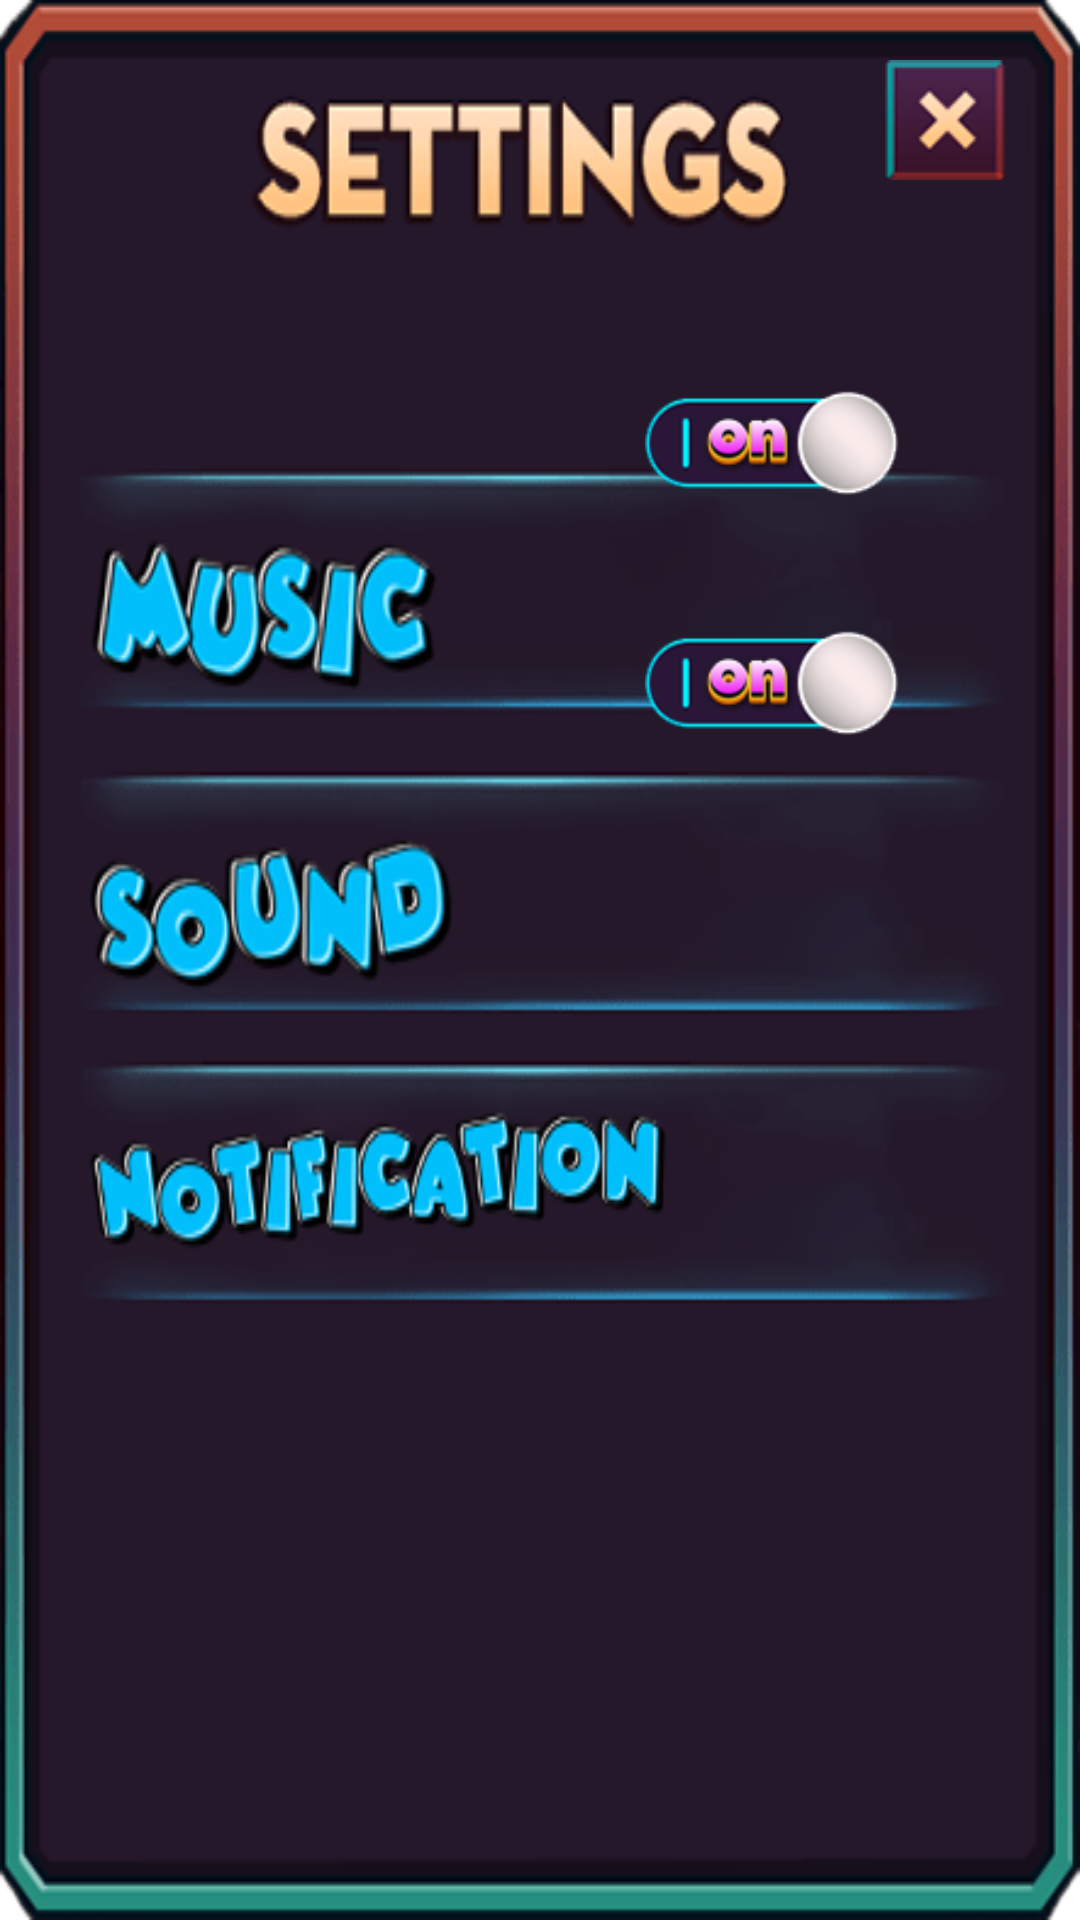

Point at icon controls on the screen. Image size 1080 x 1920, points as point (x, y).
Close UI: point (945, 120)
Music Toggle On: point (772, 443)
Sound Toggle On: point (772, 683)
